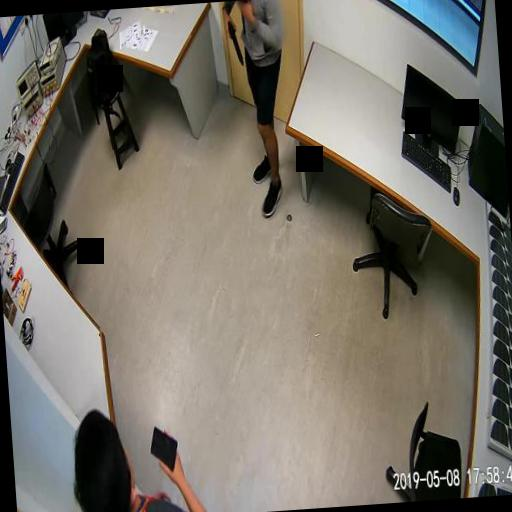Handgun: (224, 20, 242, 64)
